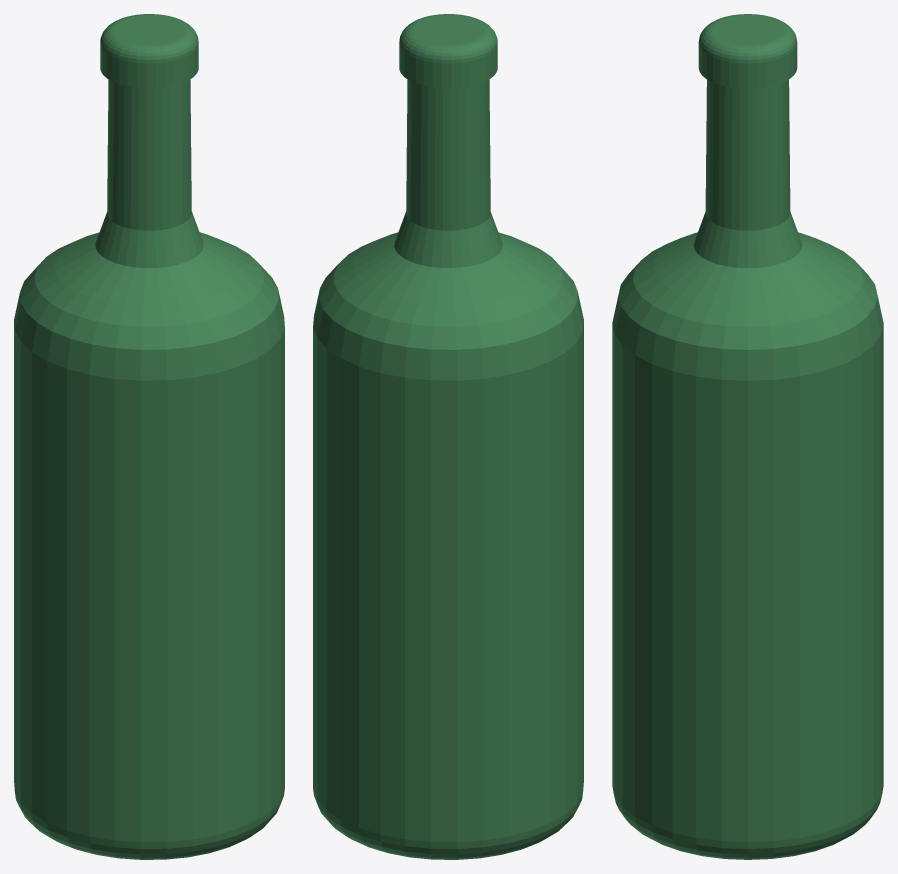
Rendered from projectile3.glb.
3 views of the same model, side by side, from view 1: azimuth 30°, elevation 25°; view 2: azimuth 150°, elevation 25°; view 3: azimuth 270°, elevation 25° (orthographic).
Parts seen in each view (by area): view 1: Cylinder; view 2: Cylinder; view 3: Cylinder.
Boxes of the visible parts, <box> form: Cylinder: <box>14,14,284,859</box>; Cylinder: <box>313,14,583,859</box>; Cylinder: <box>612,14,883,859</box>.
Bounding box in the file's own units: 2 × 6.36 × 2.
